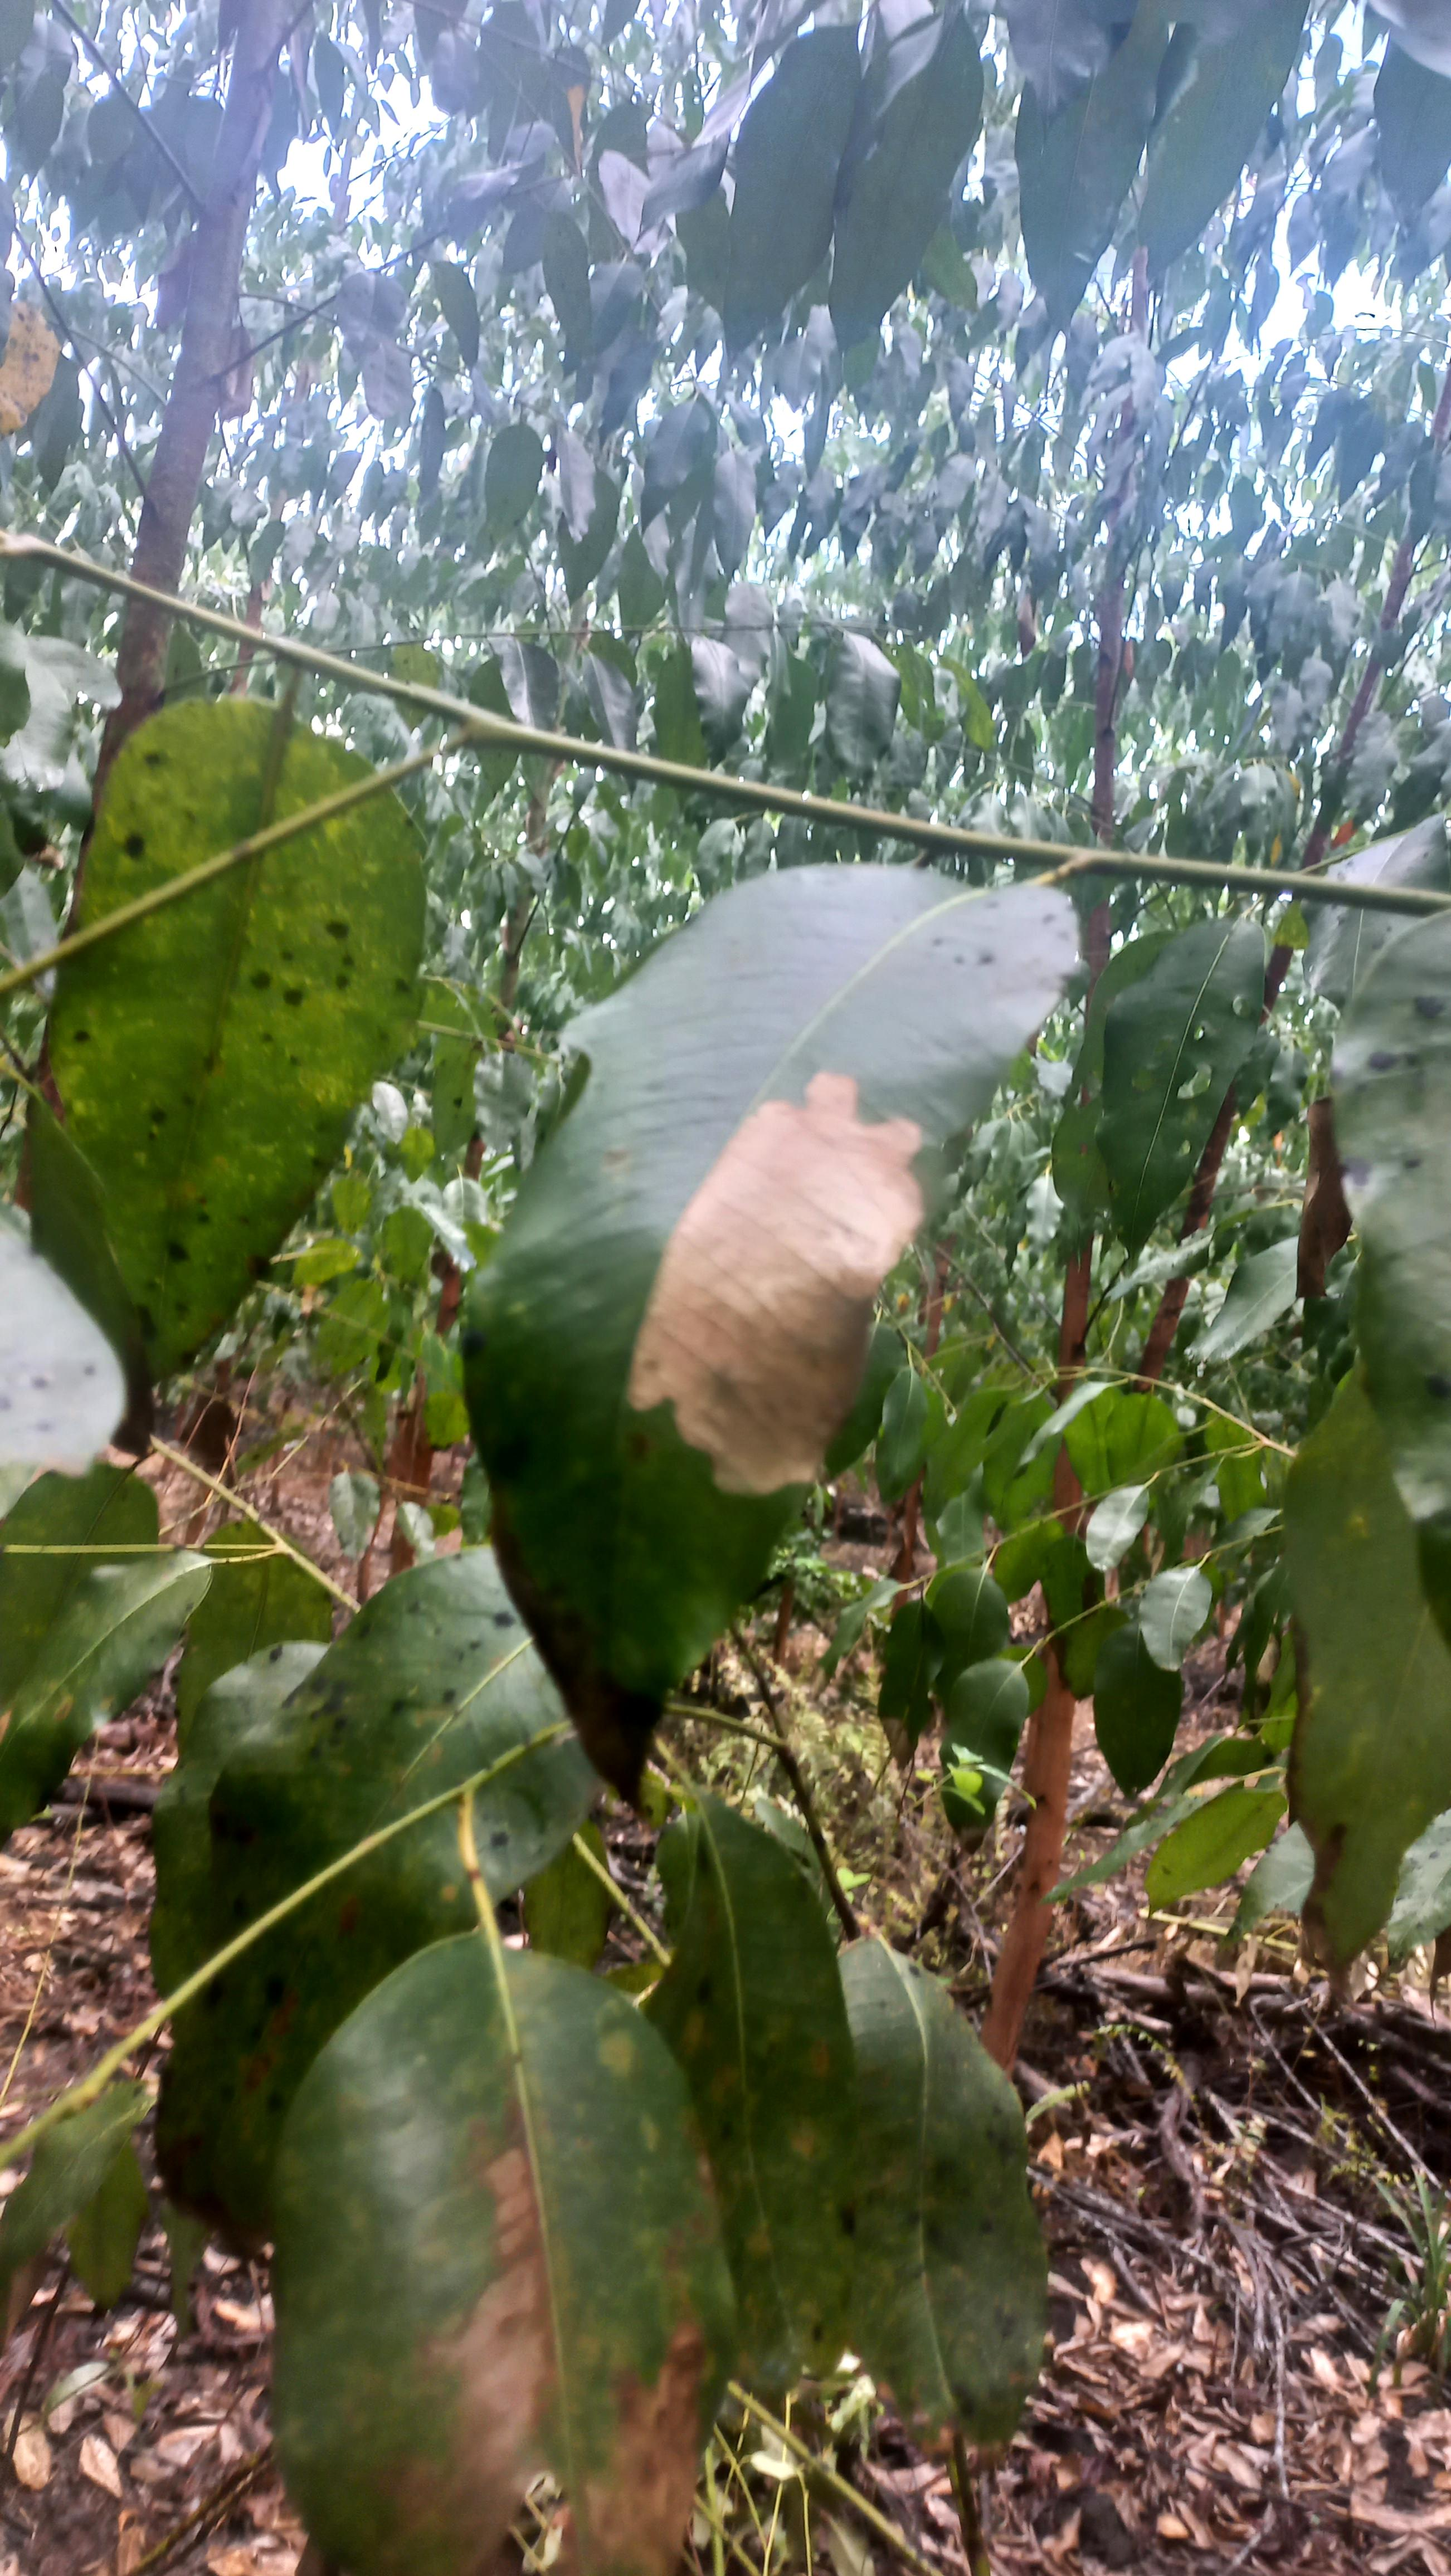Cylindrocladium: (625, 1053, 934, 1513), (380, 2112, 676, 2576)
Embun Jelaga: (25, 709, 448, 1437), (150, 1539, 577, 2249), (826, 1950, 1060, 2475)
